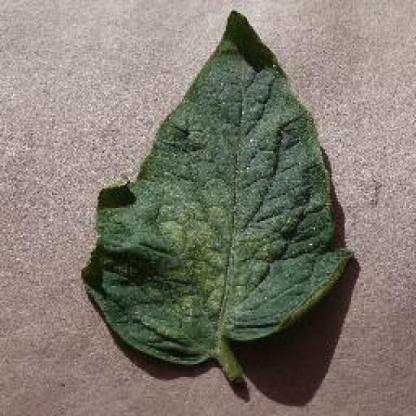Tomato_Spider_Mites: (81, 12, 355, 363)
